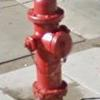Hydrant: (19, 3, 80, 100)
